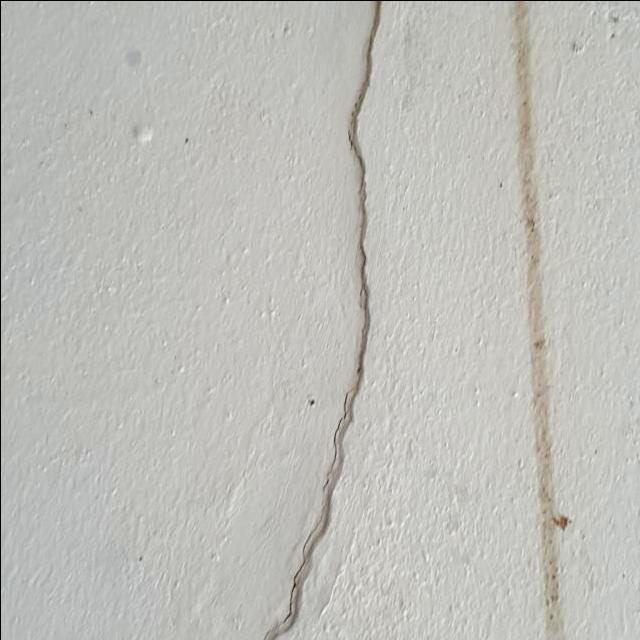SurfaceCrack: (243, 0, 414, 640)
